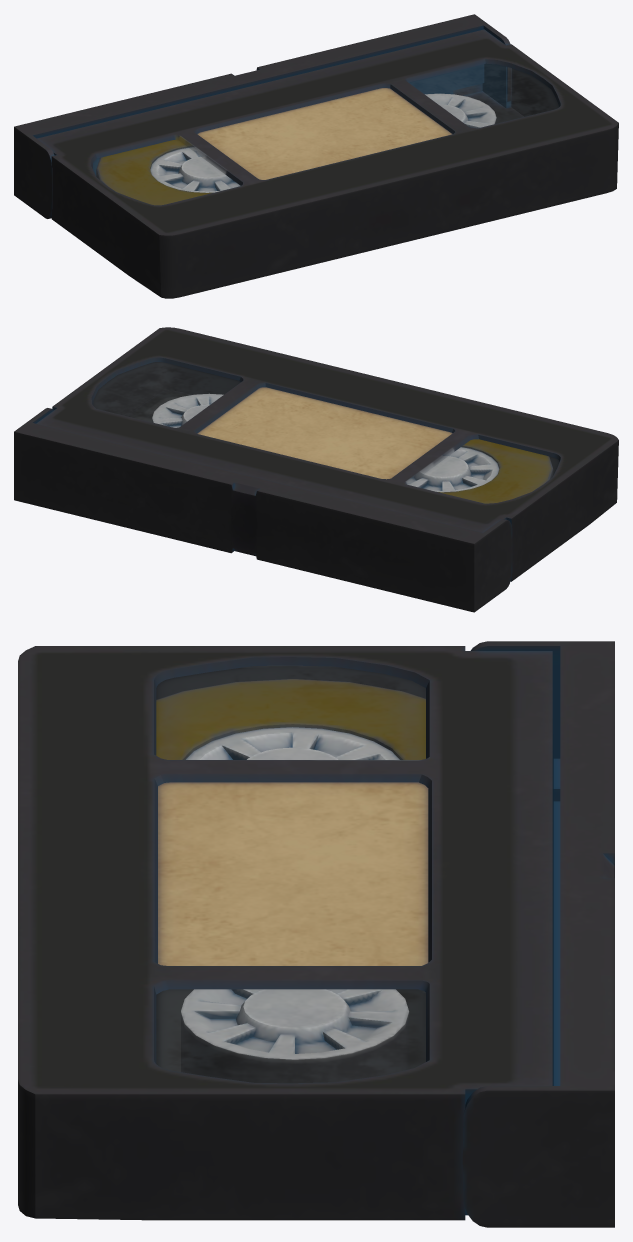
Rendered from intro_tape.glb.
3 views of the same model, one above another, from view 1: azimuth 30°, elevation 25°; view 2: azimuth 150°, elevation 25°; view 3: azimuth 270°, elevation 25° (orthographic). The views are drawn at different scales.
Parts seen in each view (by area): view 1: Tape; view 2: Tape; view 3: Tape.
Boxes of the visible parts, <box> form: Tape: <box>14,14,618,298</box>; Tape: <box>14,327,618,612</box>; Tape: <box>18,641,614,1227</box>.
Size of the model in its own units: 0.187 by 0.0266 by 0.1051.
Materials: 1 (1 with a texture image).
